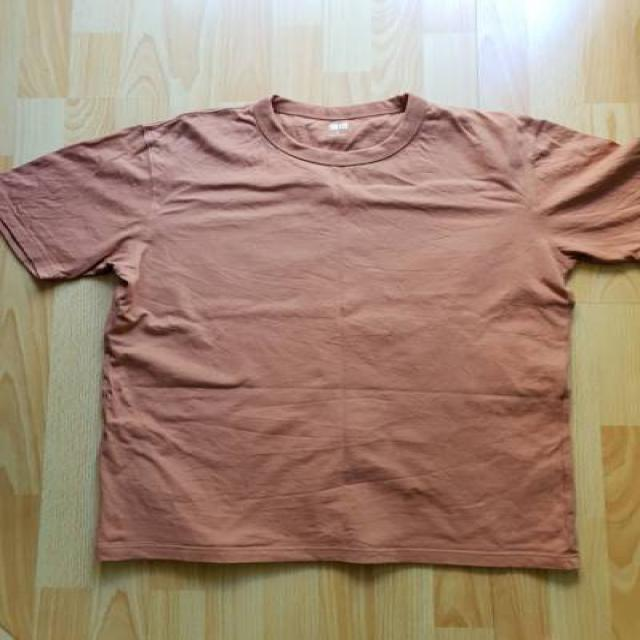shirt: (0, 93, 638, 568)
